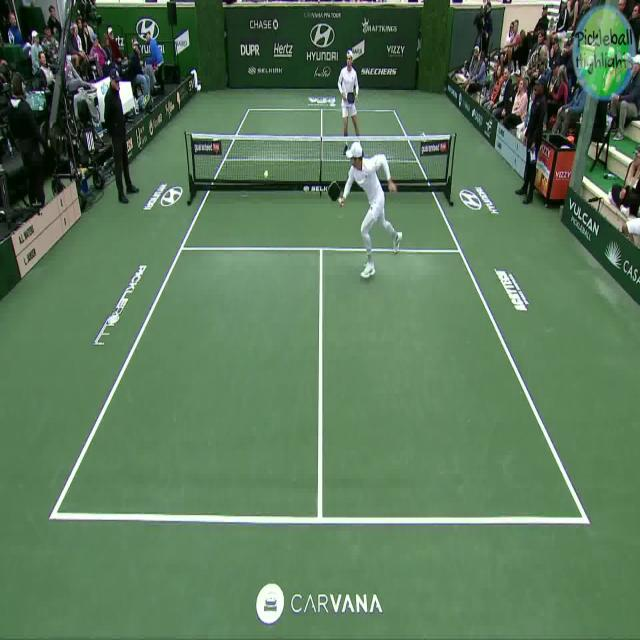ball: (263, 166, 269, 181)
